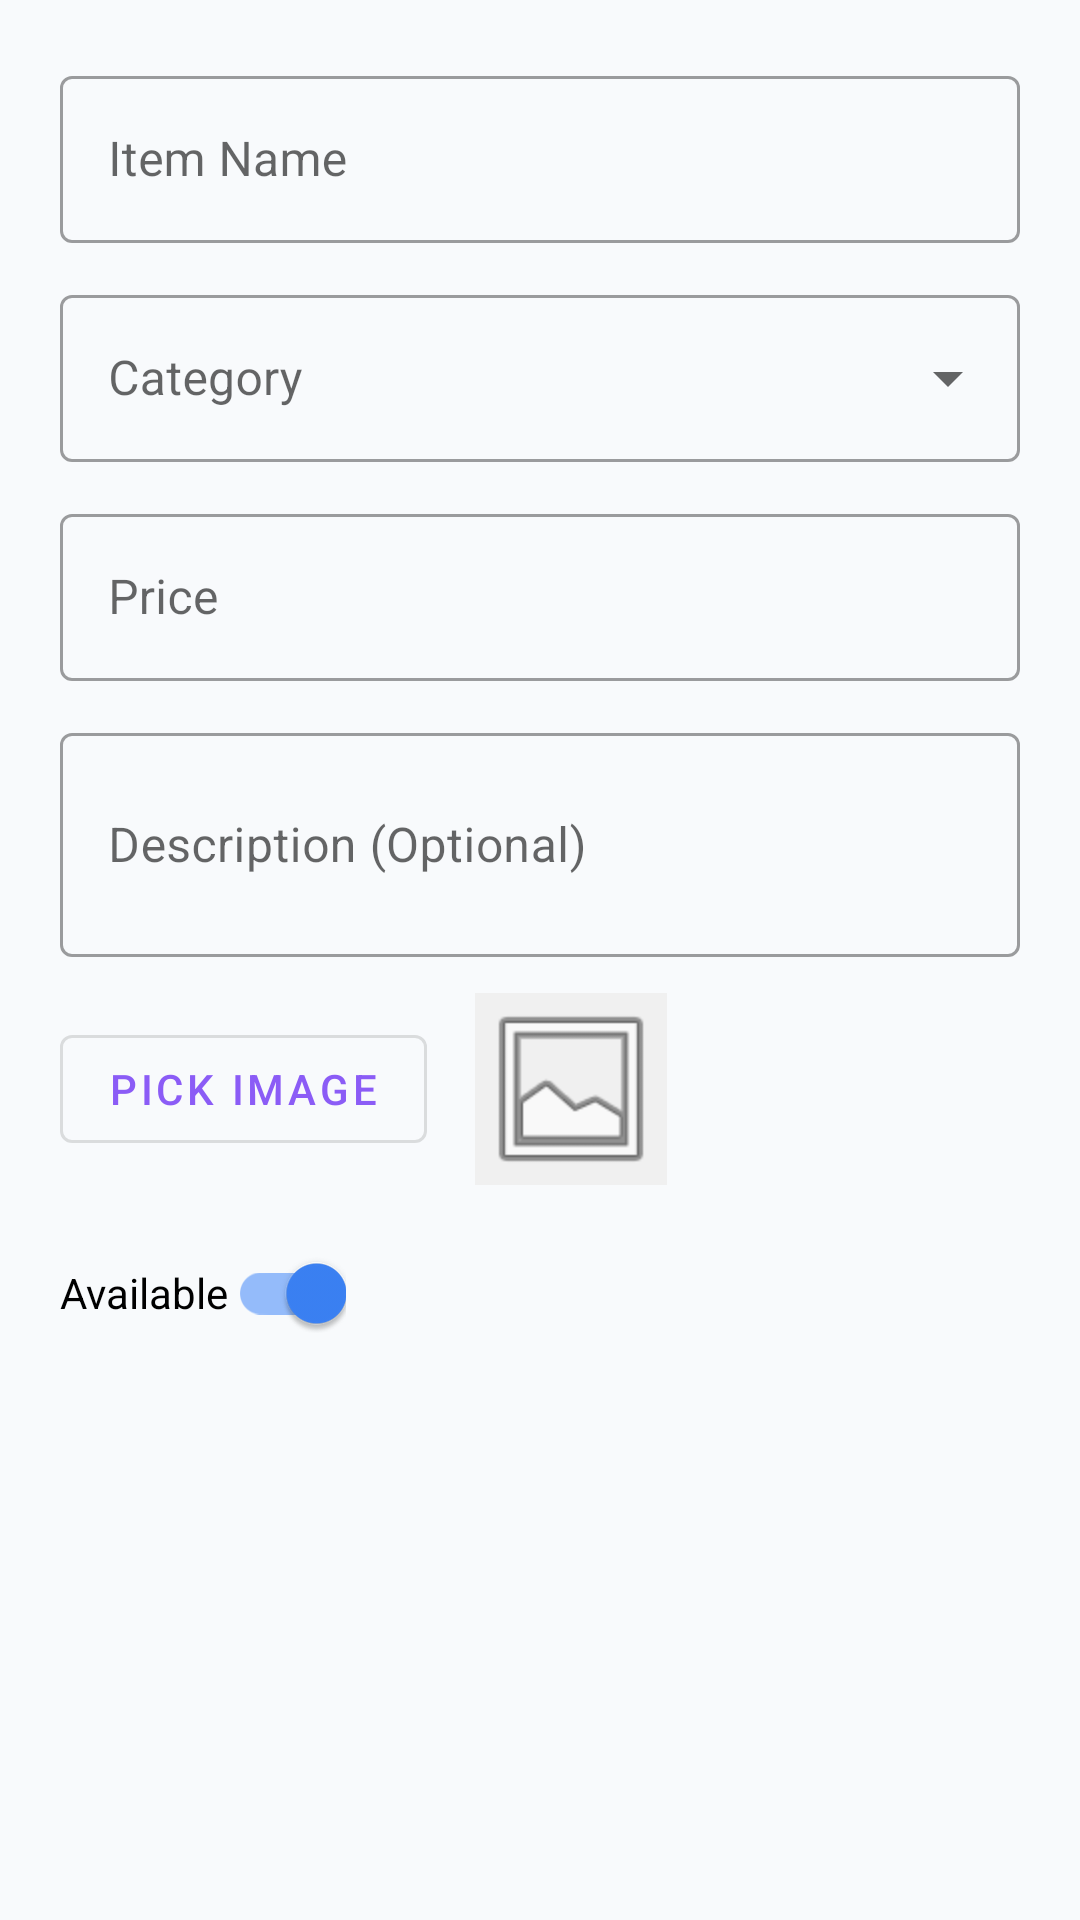

Named icons in this screenshot (1080px x 1920px) and their centers, (x=x, y=y):
gallery: (x=571, y=1089)
